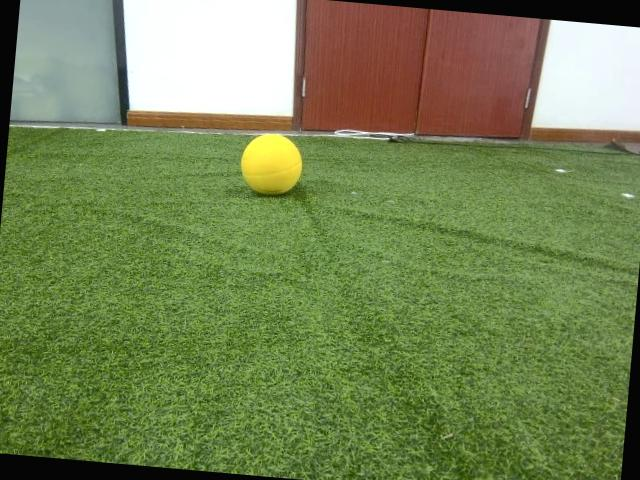yellow_ball: (236, 132, 305, 198)
